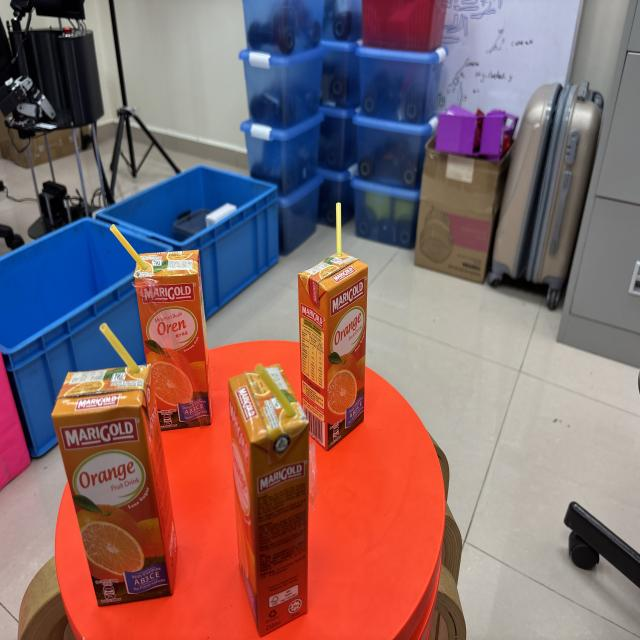drink_carton: (43, 315, 187, 615), (217, 343, 323, 640), (107, 214, 220, 438), (290, 192, 370, 453)
